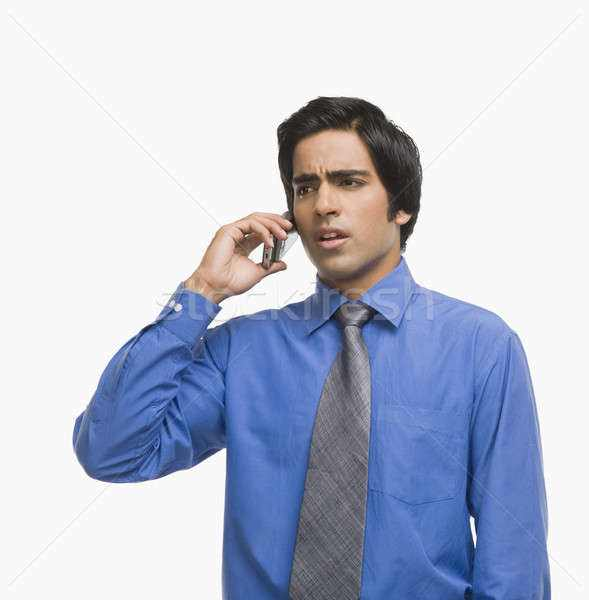phone: (263, 205, 299, 272)
talk: (190, 165, 386, 305)
